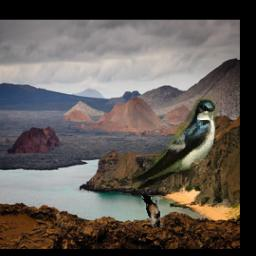Crow: (142, 195, 164, 227)
Swallow: (132, 98, 215, 191)
